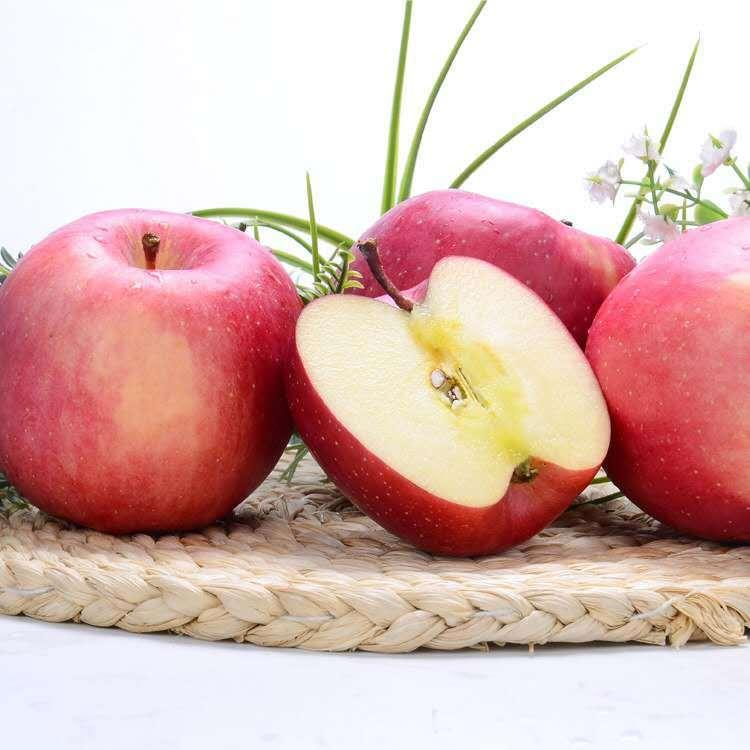apple: (6, 210, 304, 535), (588, 217, 749, 541), (354, 189, 634, 346)
